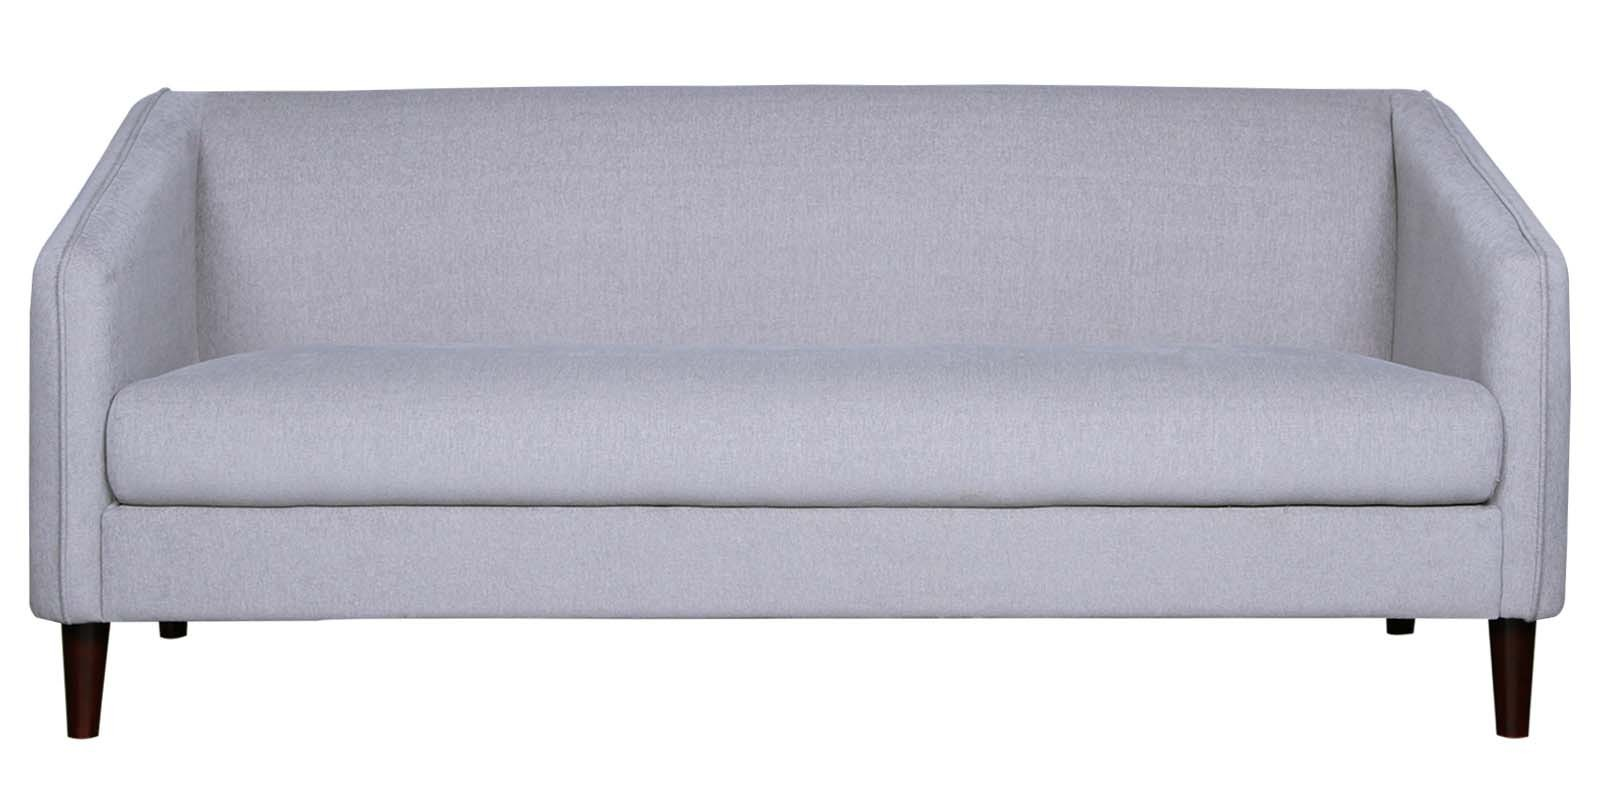Nina Three Seater Sofa in Ash Grey Colour by CasaCraft: (30, 88, 1570, 741)
